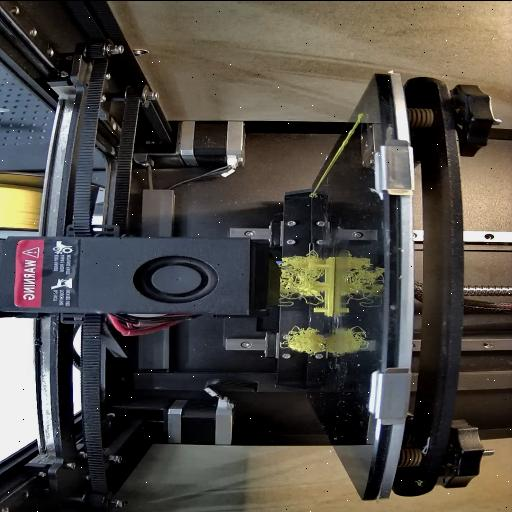spaghetti: (276, 254, 322, 303), (286, 326, 330, 358)
